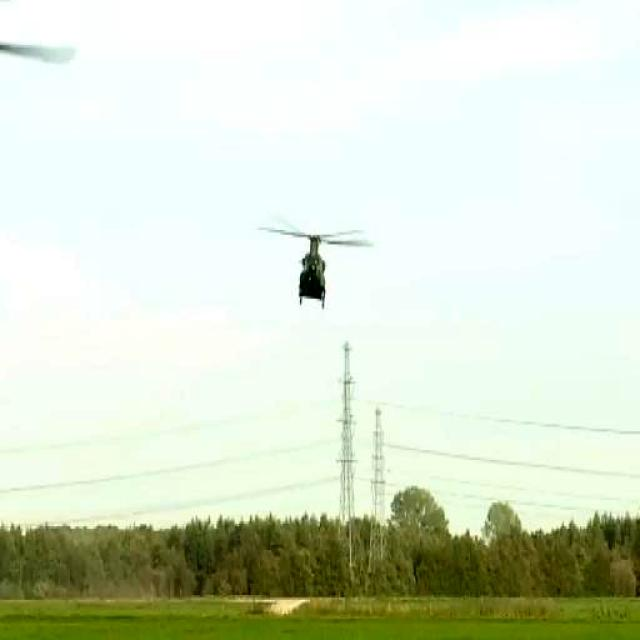drone: (279, 196, 340, 326)
